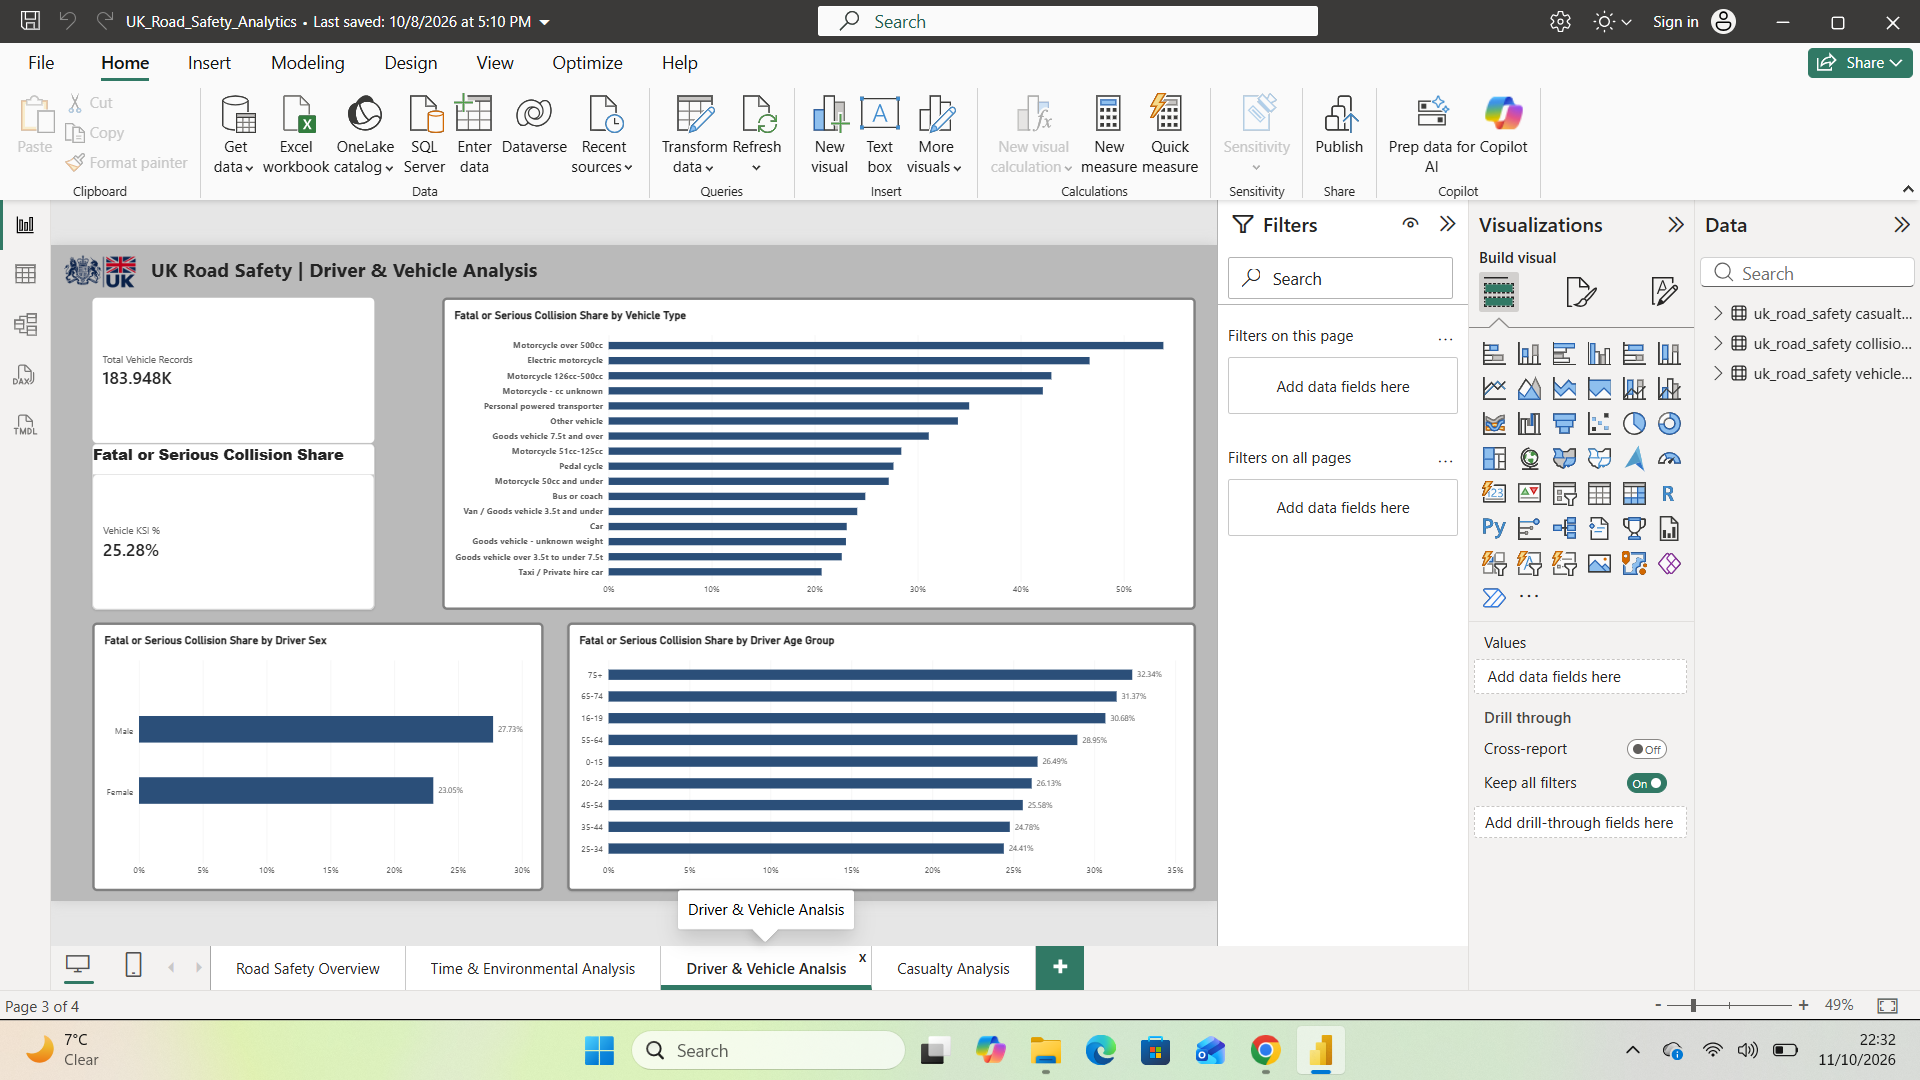

Layout of this report page (visuals, bound fields, positions):
{"tool":"powerbi","page":{"name":"Driver & Vehicle Analsis","canvas":[1920,1080],"ordinal":2},"visuals":[{"type":"clusteredBarChart","title":"Fatal or Serious Collision Share by Driver Age Group","fields":{"Category":["uk_road_safety vehicles_clean.driver_age_group"],"Y":["uk_road_safety vehicles_clean.Vehicle KSI %"]},"box":[850.1,621.6,1035.3,442.5],"z":0},{"type":"clusteredBarChart","title":"Fatal or Serious Collision Share by Vehicle Type","fields":{"Category":["uk_road_safety vehicles_clean.vehicle_type_label"],"Y":["uk_road_safety vehicles_clean.Vehicle KSI %"]},"box":[644.3,86.4,1241.2,514.6],"z":1000},{"type":"clusteredBarChart","title":"Fatal or Serious Collision Share by Driver Sex","fields":{"Category":["uk_road_safety vehicles_clean.driver_sex_label"],"Y":["uk_road_safety vehicles_clean.Vehicle KSI %"]},"box":[67.9,621.6,743.1,442.5],"z":2000},{"type":"cardVisual","fields":{"Data":["uk_road_safety vehicles_clean.Total Vehicle Records"]},"box":[67.9,86.4,465.2,240.8],"z":3000},{"type":"cardVisual","title":"Fatal or Serious Collision Share","fields":{"Data":["uk_road_safety vehicles_clean.Vehicle KSI %"]},"box":[67.9,327.3,465.2,273.8],"z":4000},{"type":"textbox","box":[164.7,0,685.4,72],"z":5000},{"type":"image","box":[0,0,164.7,86.4],"z":5001}]}

Visuals, with their boxes on the page's 1920x1080 design canvas (x1, y1, x2, y2). These are canvas units, not pixel positions in the 1920x1080 screenshot, which may show the page scaled, cropped or inside an application window:
"Fatal or Serious Collision Share by Driver Age Group" clusteredBarChart: 850 622 1885 1064
"Fatal or Serious Collision Share by Vehicle Type" clusteredBarChart: 644 86 1886 601
"Fatal or Serious Collision Share by Driver Sex" clusteredBarChart: 68 622 811 1064
cardVisual - uk_road_safety vehicles_clean.Total Vehicle Records: 68 86 533 327
"Fatal or Serious Collision Share" cardVisual: 68 327 533 601
textbox: 165 0 850 72
image: 0 0 165 86
